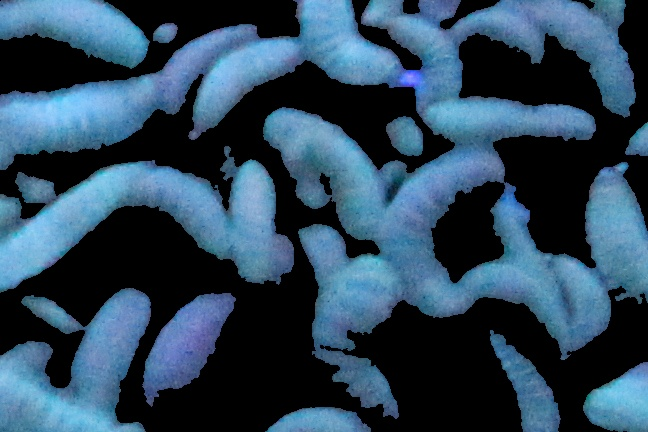larvae: (390, 150, 504, 310), (265, 109, 387, 236), (150, 289, 257, 417), (313, 258, 404, 408), (1, 79, 163, 162), (112, 161, 236, 261), (190, 34, 299, 137), (1, 189, 103, 296), (539, 1, 639, 107), (1, 1, 146, 71), (579, 170, 648, 305), (71, 285, 149, 400), (429, 94, 594, 144), (4, 361, 120, 432), (289, 1, 400, 75), (482, 332, 563, 432), (375, 6, 464, 97), (160, 17, 256, 101), (455, 4, 545, 87), (556, 244, 612, 358), (492, 186, 552, 288), (461, 258, 559, 319), (235, 153, 275, 271), (297, 224, 352, 279), (1, 171, 7, 234)
